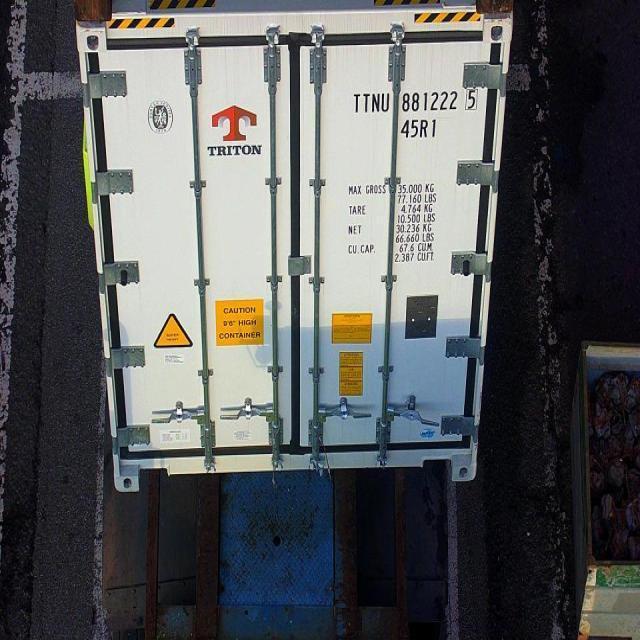ISO: (400, 117, 442, 138)
container_number: (352, 89, 481, 113)
